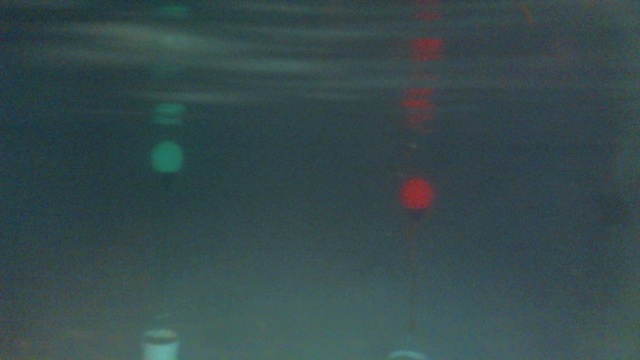buoy_green: (148, 136, 183, 187)
buoy_red: (399, 178, 432, 220)
